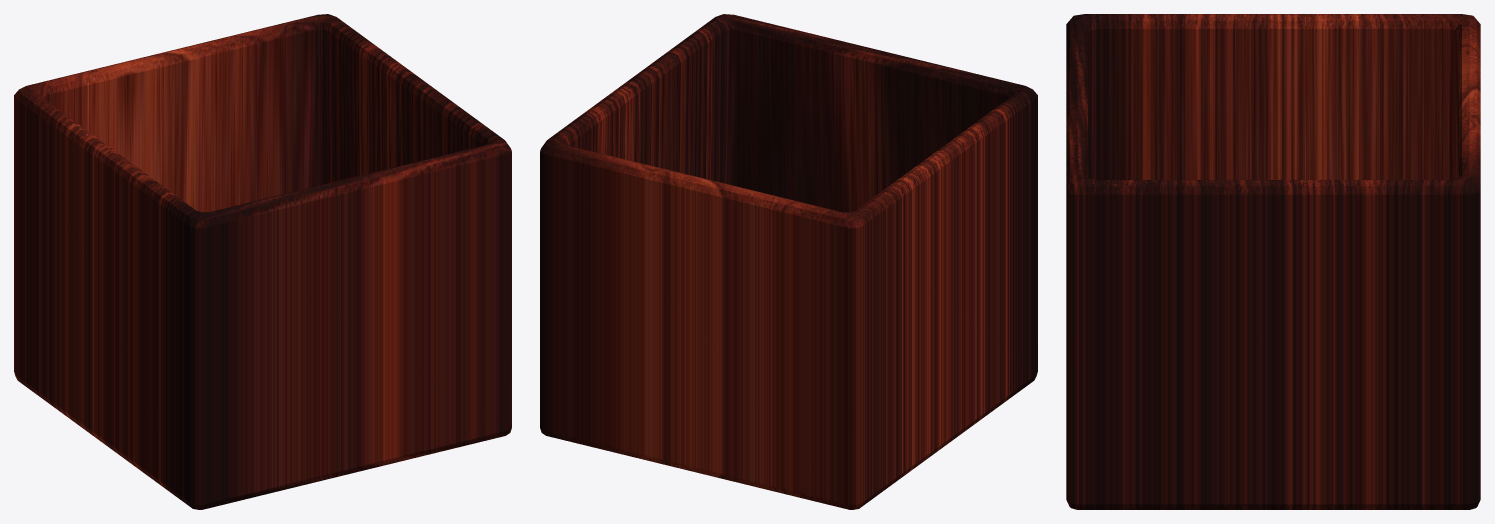
Rendered from Dicebox.fbx.
3 views of the same model, side by side, from view 1: azimuth 30°, elevation 25°; view 2: azimuth 150°, elevation 25°; view 3: azimuth 270°, elevation 25° (orthographic). The views are drawn at different scales.
Visible parts, largest first — view 1: Cube; view 2: Cube; view 3: Cube.
Part boxes in pixels (x1,y1,x2,y2): Cube: (14, 14, 511, 509); Cube: (540, 14, 1037, 509); Cube: (1066, 14, 1480, 509).
Bounding box in the file's own units: 8.93 × 7.83 × 8.93.
